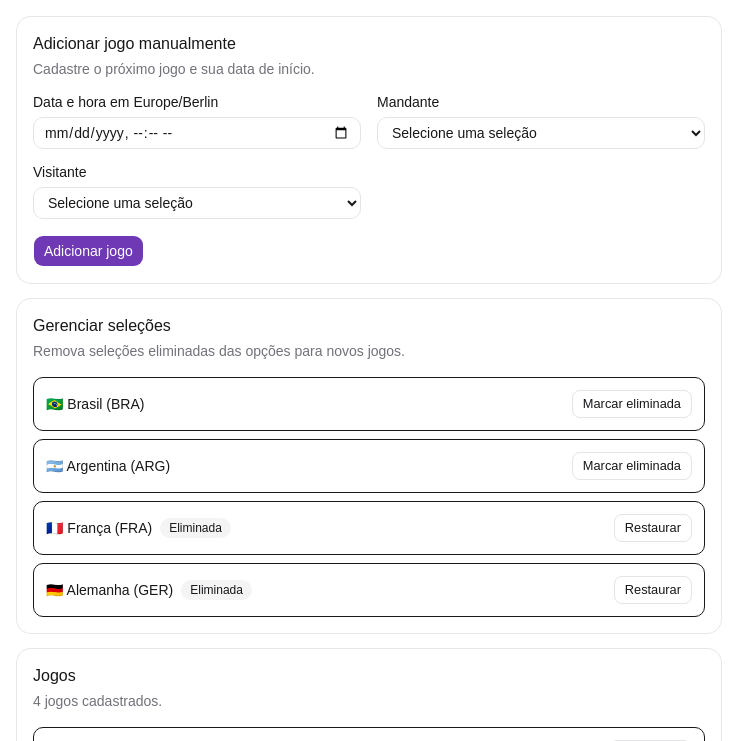
Test case: AdminMatchesPage › shows an accessible team update error
Click the button with aria-label "Restaurar França" at [653, 528], box [614,514,692,542]
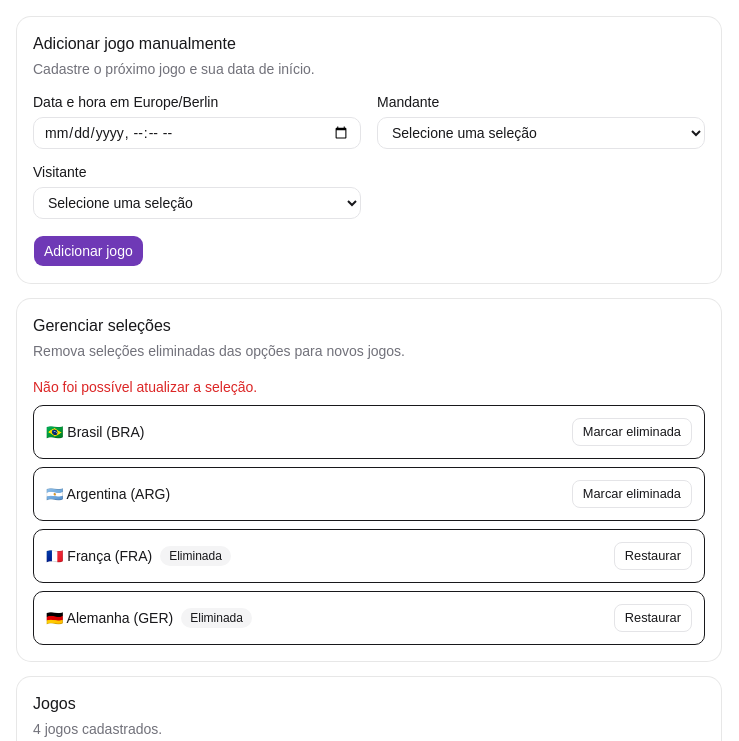
expect the message reads "Não foi possível atualizar a seleção.": met, box [33,379,257,395]
